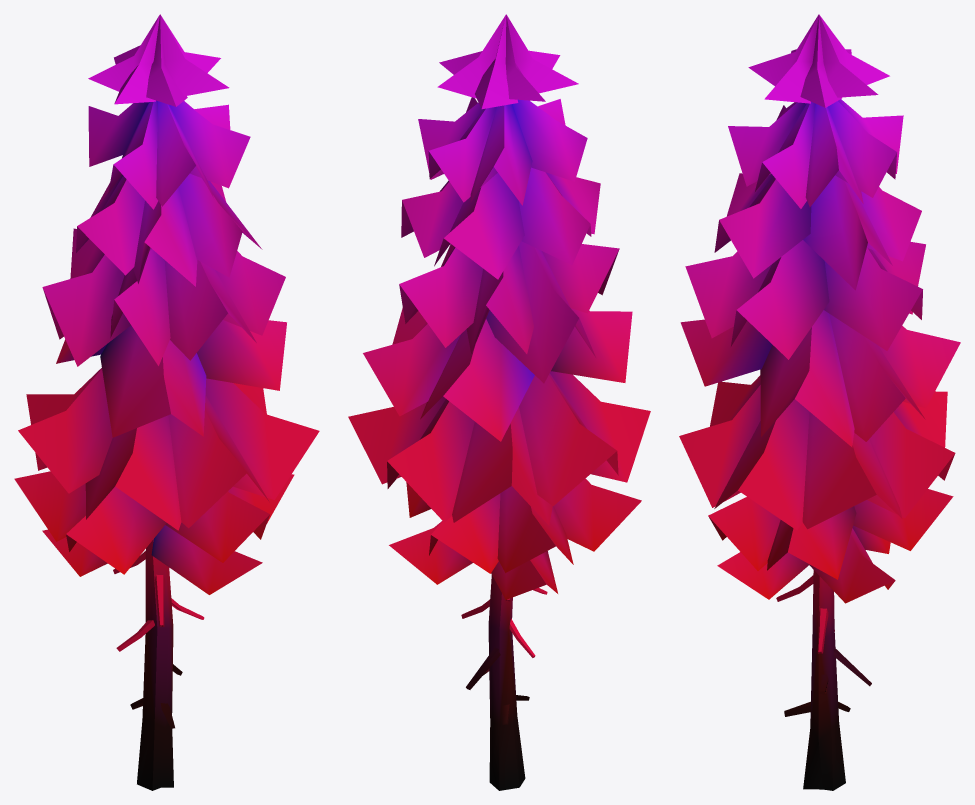
Rendered from PineTree4.fbx.
3 views of the same model, side by side, from view 1: azimuth 30°, elevation 25°; view 2: azimuth 150°, elevation 25°; view 3: azimuth 270°, elevation 25° (orthographic).
Parts seen in each view (by area): view 1: Pine_Tree_LOD0; view 2: Pine_Tree_LOD0; view 3: Pine_Tree_LOD0.
Part boxes in pixels (x1,y1,x2,y2): Pine_Tree_LOD0: (14, 14, 319, 790); Pine_Tree_LOD0: (348, 14, 650, 790); Pine_Tree_LOD0: (679, 14, 960, 790).
Size of what is drawn, in the model's own units: 321 by 917 by 303.
